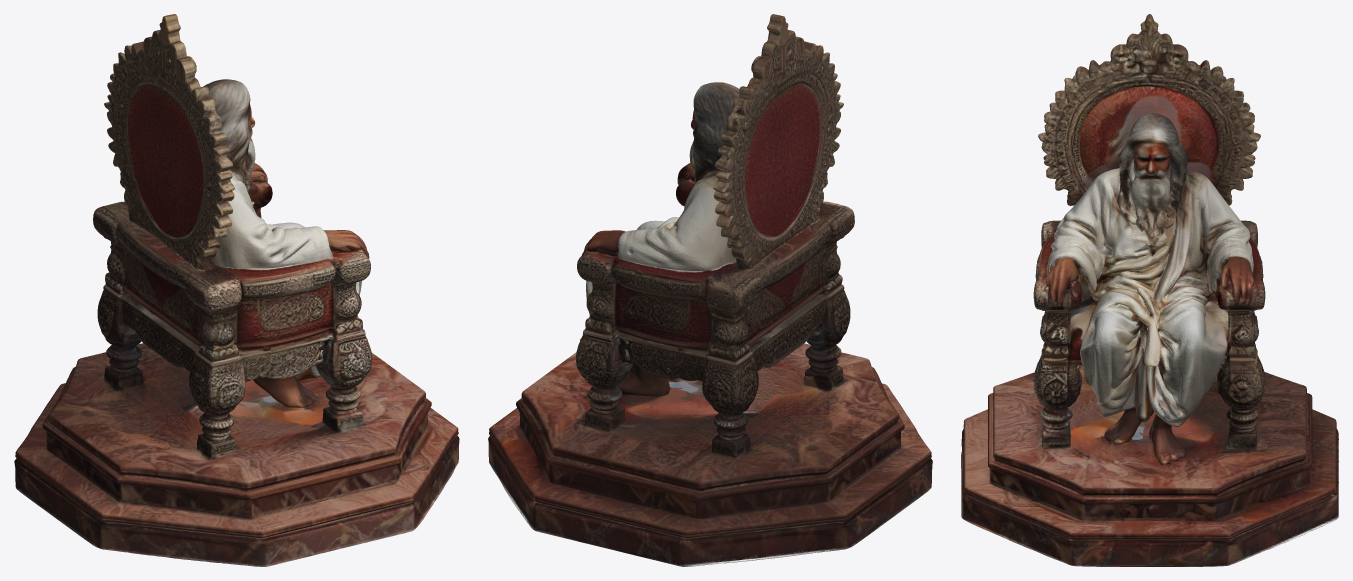
File: modelo49.glb
The picture shows the model from 3 angles, left to right: view 1: azimuth 30°, elevation 25°; view 2: azimuth 150°, elevation 25°; view 3: azimuth 270°, elevation 25°; orthographic projection. The views are drawn at different scales.
Visible parts, largest first — view 1: tripo_node_3b8ba388-b24d-4a8f-b3a7-3fb56905bc11; view 2: tripo_node_3b8ba388-b24d-4a8f-b3a7-3fb56905bc11; view 3: tripo_node_3b8ba388-b24d-4a8f-b3a7-3fb56905bc11.
Part boxes in pixels (left/top/right/bottom): tripo_node_3b8ba388-b24d-4a8f-b3a7-3fb56905bc11: left=14, top=14, right=459, bottom=566; tripo_node_3b8ba388-b24d-4a8f-b3a7-3fb56905bc11: left=488, top=14, right=932, bottom=566; tripo_node_3b8ba388-b24d-4a8f-b3a7-3fb56905bc11: left=961, top=14, right=1338, bottom=566.
Size of the model in its own units: 0.7989 by 0.9999 by 0.7805.
Materials: 1 (1 with a texture image).
